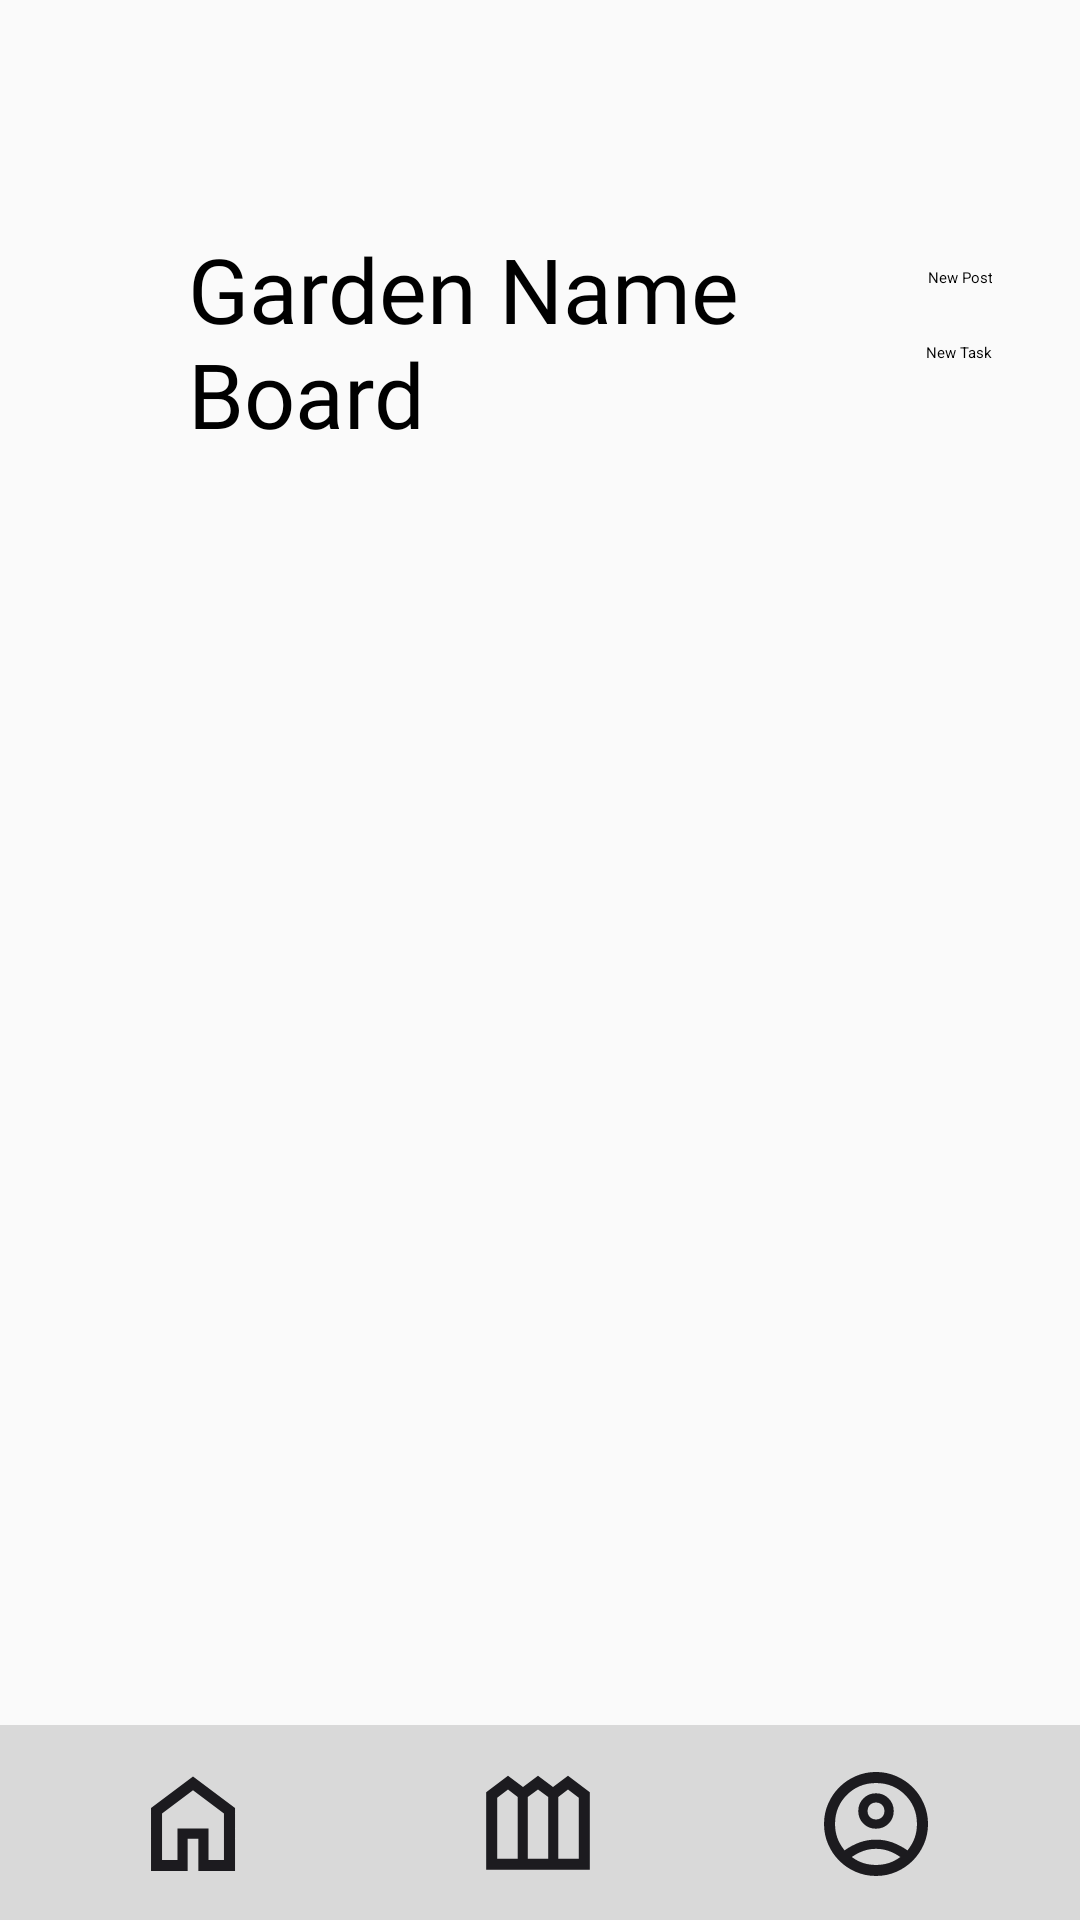

Screen size 1080 × 1920. Icon name, then its center in pixels as (x=x, y=y):
home: (x=193, y=1823)
outdoor garden: (x=538, y=1823)
